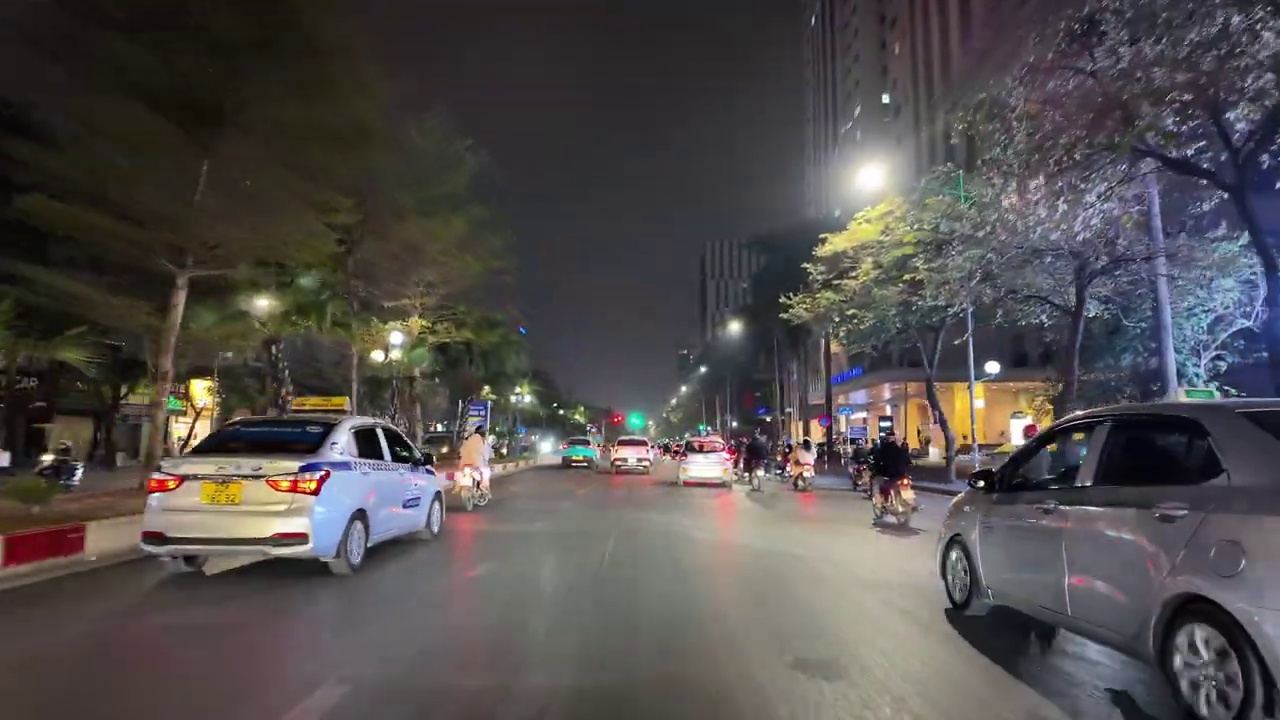acesa: (846, 158, 892, 203), (719, 314, 748, 342), (248, 293, 279, 318)
